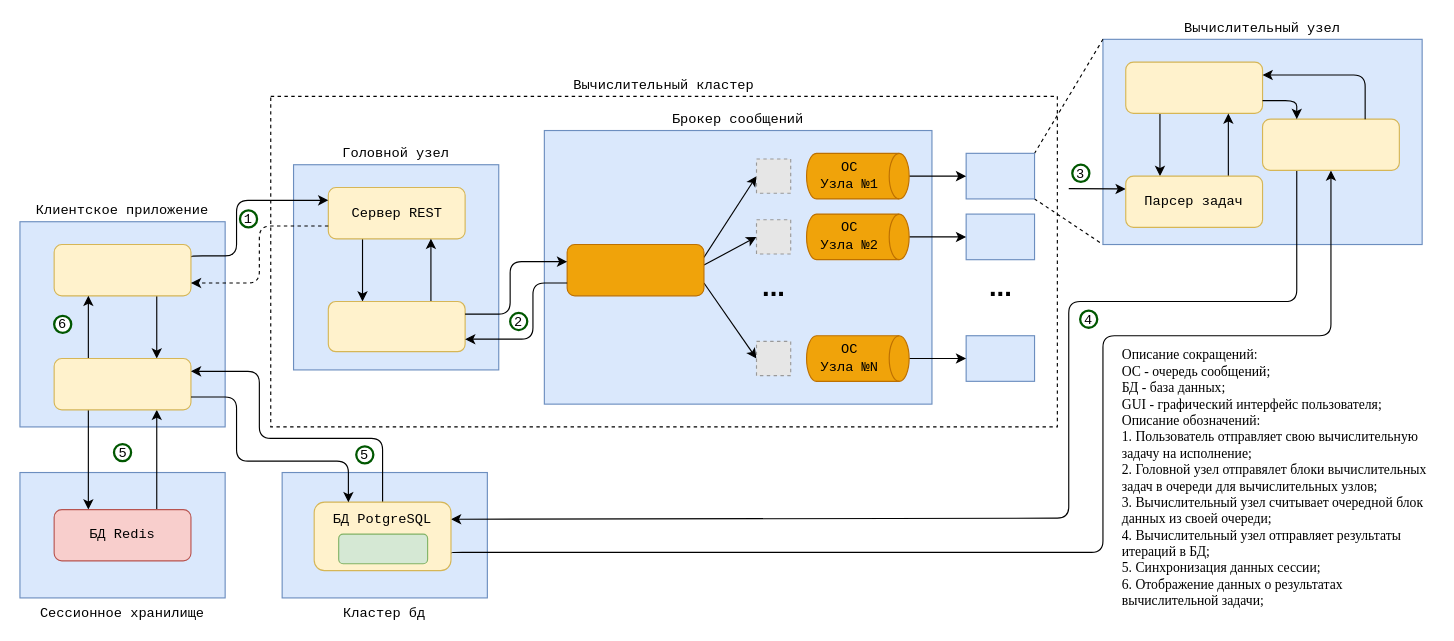
Image size: 1454x641. Some labels were removed from this diagram. Grey dashed boxes stand in for pictures. The shapes that lost their labels are listed below. From the top down, each one's centre as x and y in pixels, then its label:
At (1194,87): "Модуль математических преобразований".
At (1330,144): "Модуль data persistence".
At (1000,175): "Узел №1".
At (1000,236): "Узел №2".
At (122,269): "GUI пользователя".
At (635,269): "Точка обмена".
At (396,326): "Планировщик задач".
At (1000,358): "Узел №N".
At (122,383): "Модуль сессионного хранилища".
At (383,548): "Citus data".
